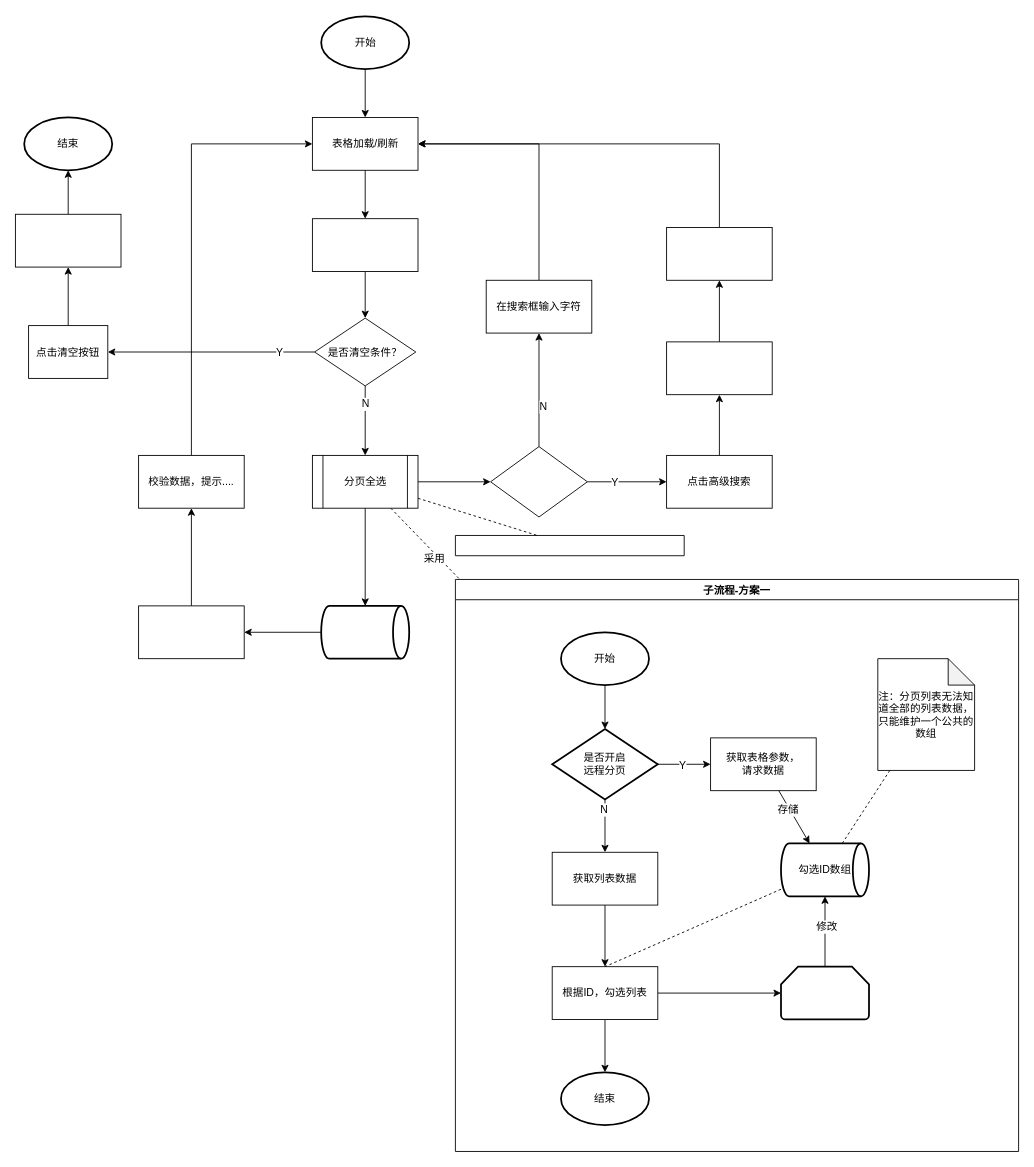
Some shapes in this 1034 by 1167 pixel diagram are drawn without their labels. The shapes that lost their labels are listed below. From the top down, each one's box as (x1, y1, x2, y2) in pixels, then its label:
(15, 213, 121, 267): 清空筛选条件，恢复条件初始化
(312, 218, 418, 271): 清空已选数据
(666, 227, 772, 280): 清空搜索框内容， 且禁用
(666, 341, 772, 395): 出现弹窗，输入内容
(490, 446, 587, 517): 是否为高级搜索
(455, 535, 684, 556): 子流程-方案二
(138, 605, 244, 659): 批量操作：删除..
(320, 605, 410, 659): 批量操作 请求参数
(780, 965, 869, 1020): 取消/选上 n 行
